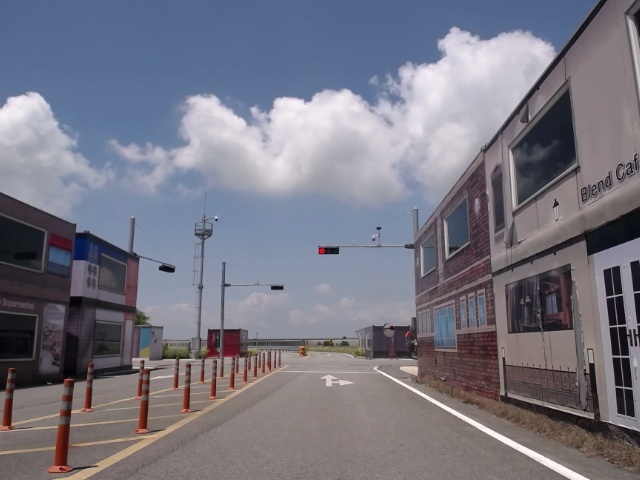red_3: (316, 247, 339, 255)
